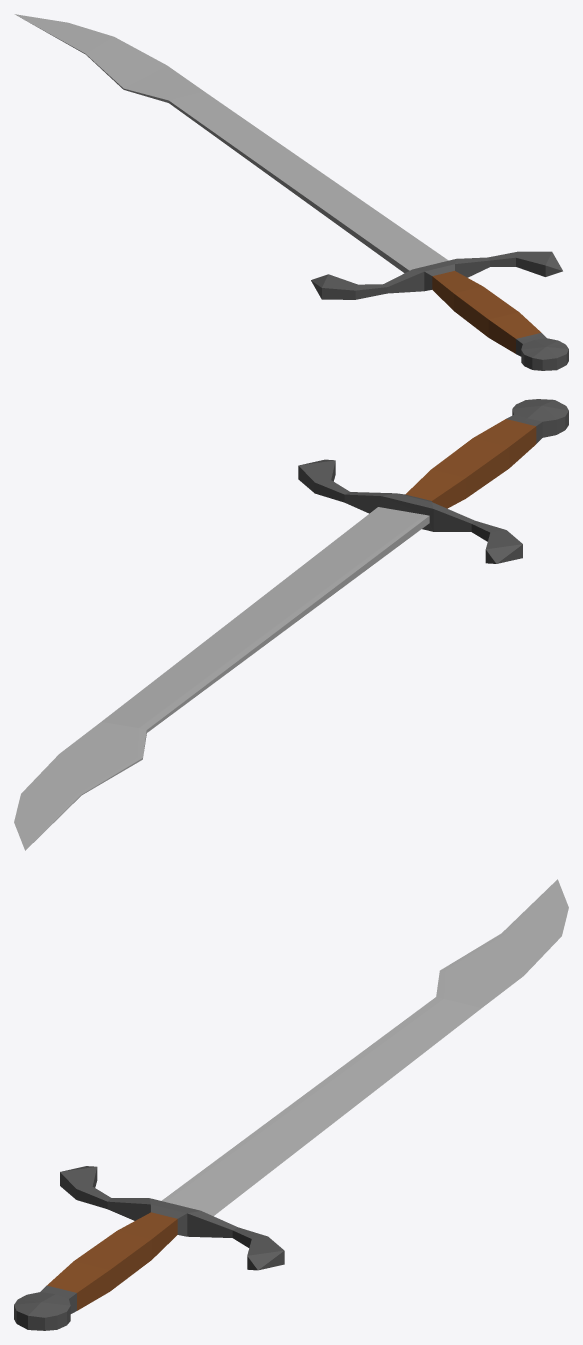
The model's file is Low Poly Weapon Pack - by Kickin It Studios.fbx_Falchion.fbx.
3 views of the same model, one above another, from view 1: azimuth 30°, elevation 25°; view 2: azimuth 150°, elevation 25°; view 3: azimuth 330°, elevation 25° (orthographic). The views are drawn at different scales.
Parts seen in each view (by area): view 1: Falchion; view 2: Falchion; view 3: Falchion.
Boxes of the visible parts, box(x1,y1,x2,y2) form: Falchion: box(14, 14, 568, 370); Falchion: box(14, 399, 568, 850); Falchion: box(14, 879, 568, 1330).
Size of the model in its own units: 31.11 by 2.8 by 127.
